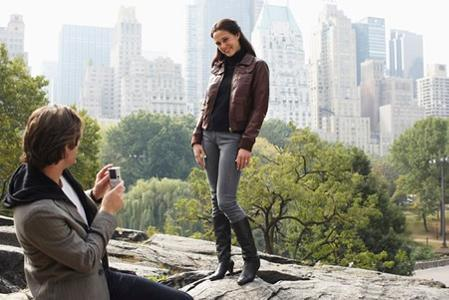person: (3, 104, 194, 300)
